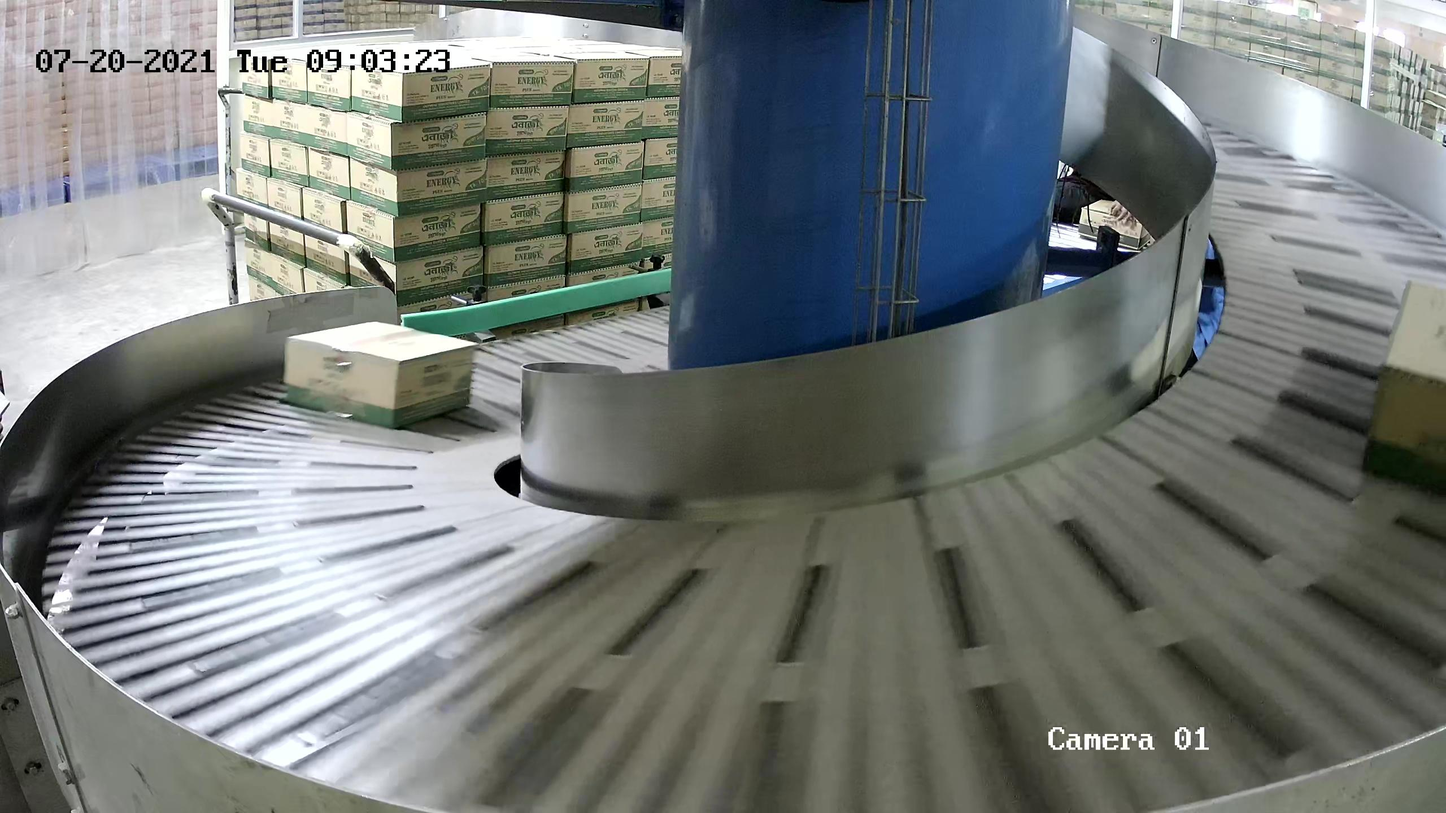Box: (282, 320, 480, 429), (1360, 277, 1446, 485)
